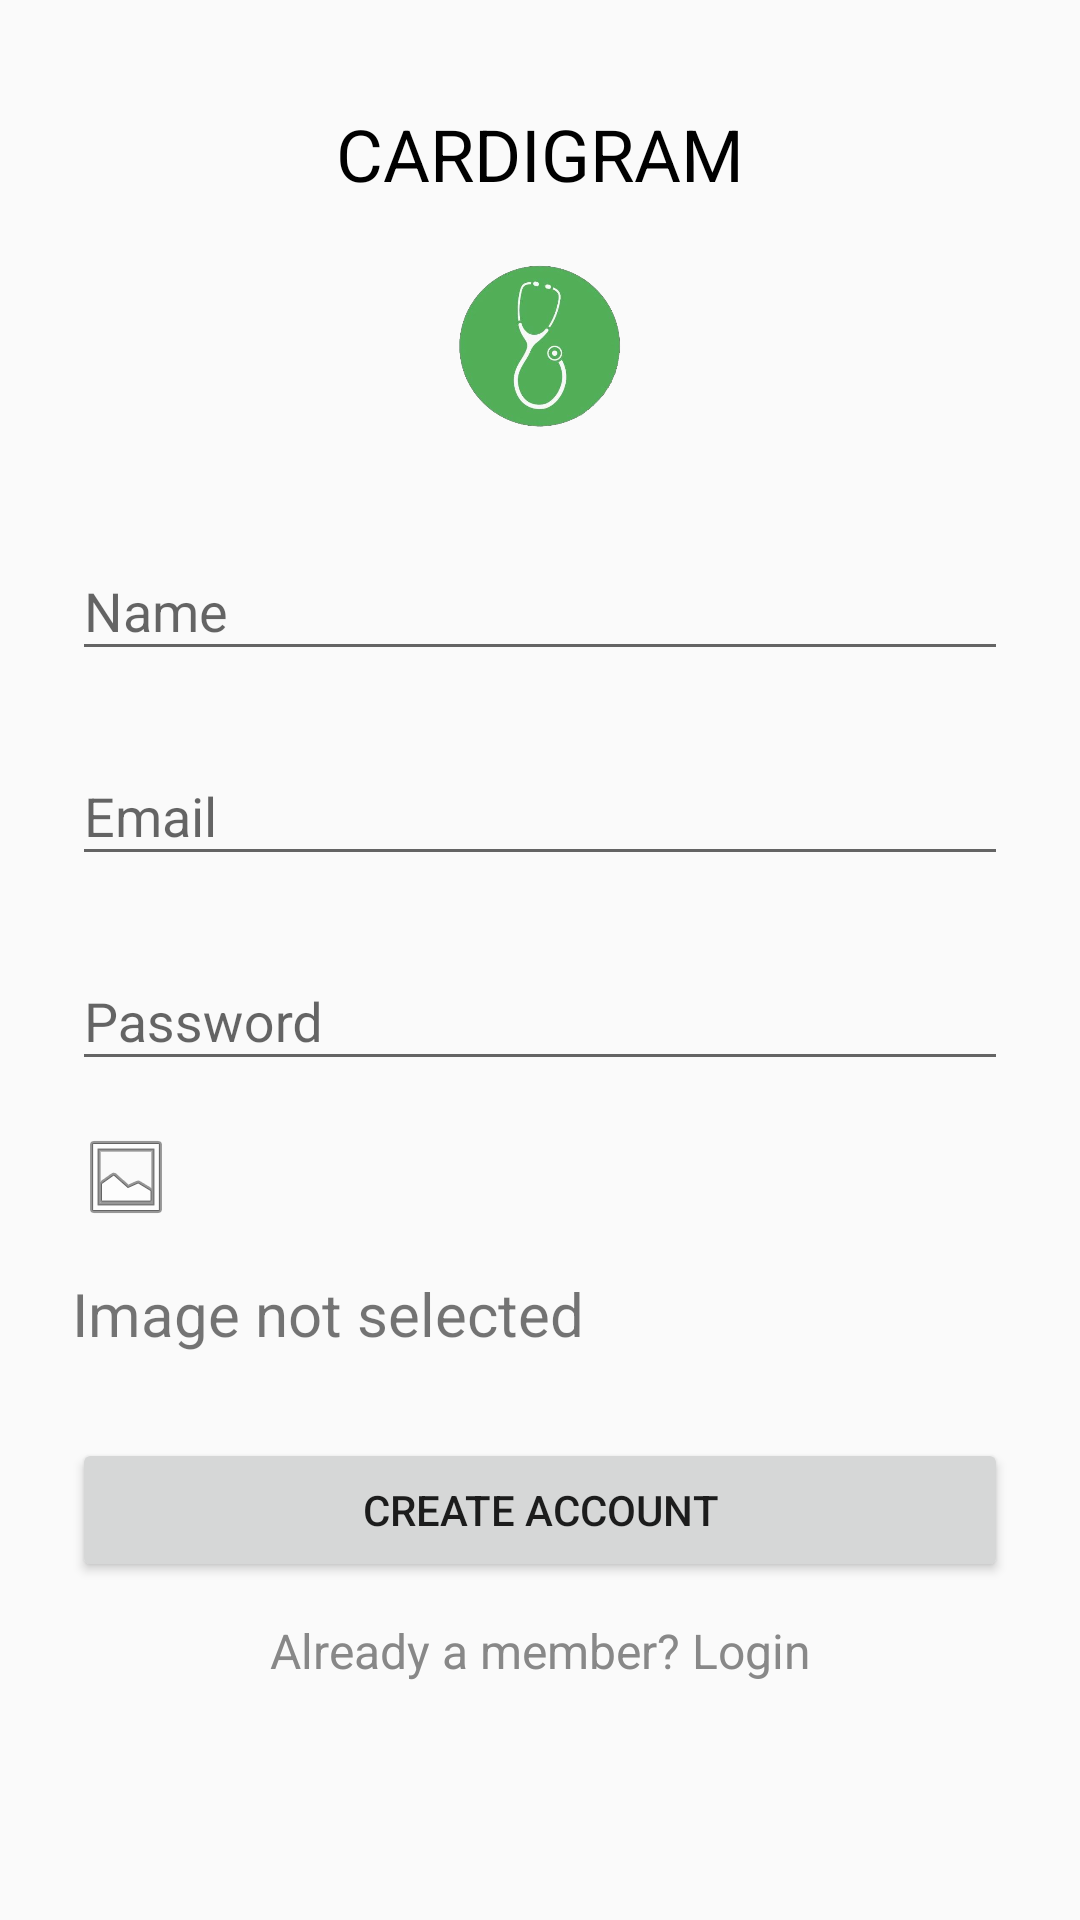

Screen size 1080x1920. Icon name, then its center in pixels as point (x, y):
gallery: point (126, 1177)
